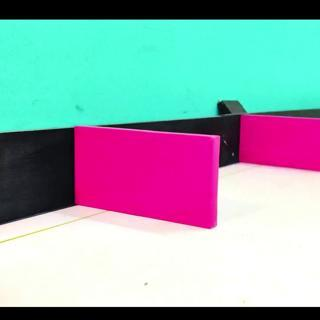xparking: (78, 141, 214, 226), (246, 123, 317, 168)
